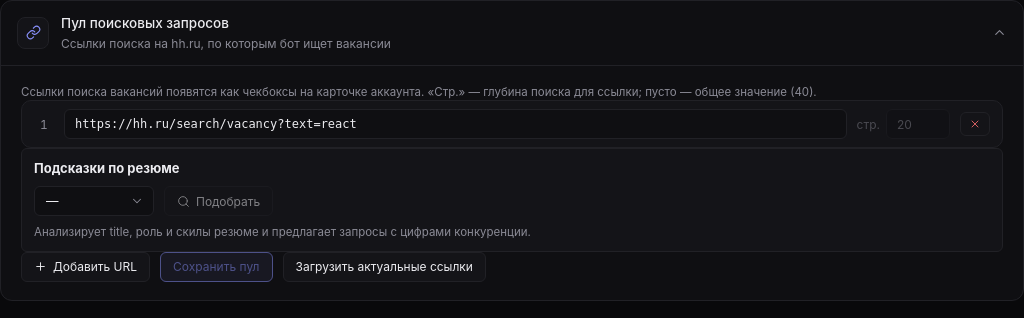
Test: pool success waits for acknowledgement and keeps it over old socket props
Replace the text in the field with placeholder "https://hh.ru/search/vacancy?…" with "https://hh.ru/search/vacancy?text=next". click: (455, 124)
box: [64, 109, 847, 139]
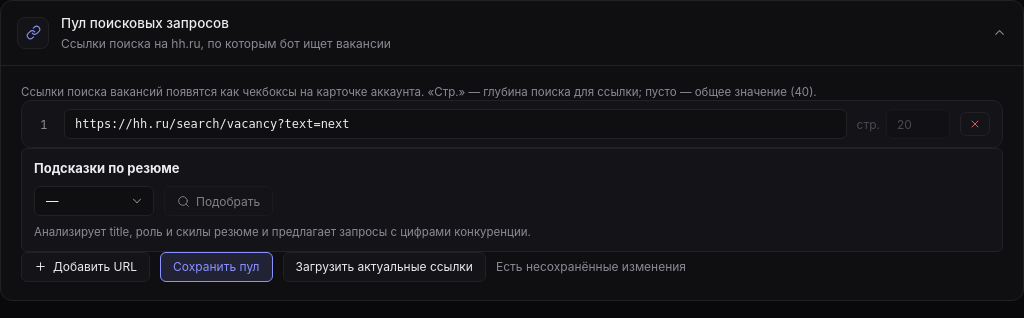
Click the button "Сохранить пул". click: (216, 267)
box: [160, 252, 272, 282]
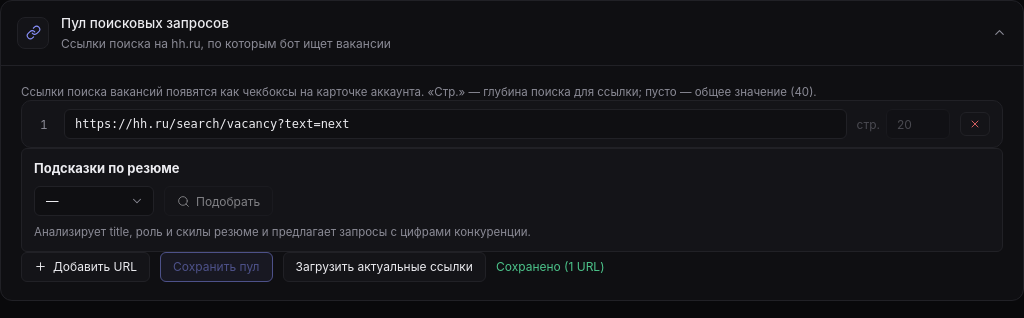
Expected: the text "Сохранено (1 URL)" is shown, [496, 258, 605, 276]
